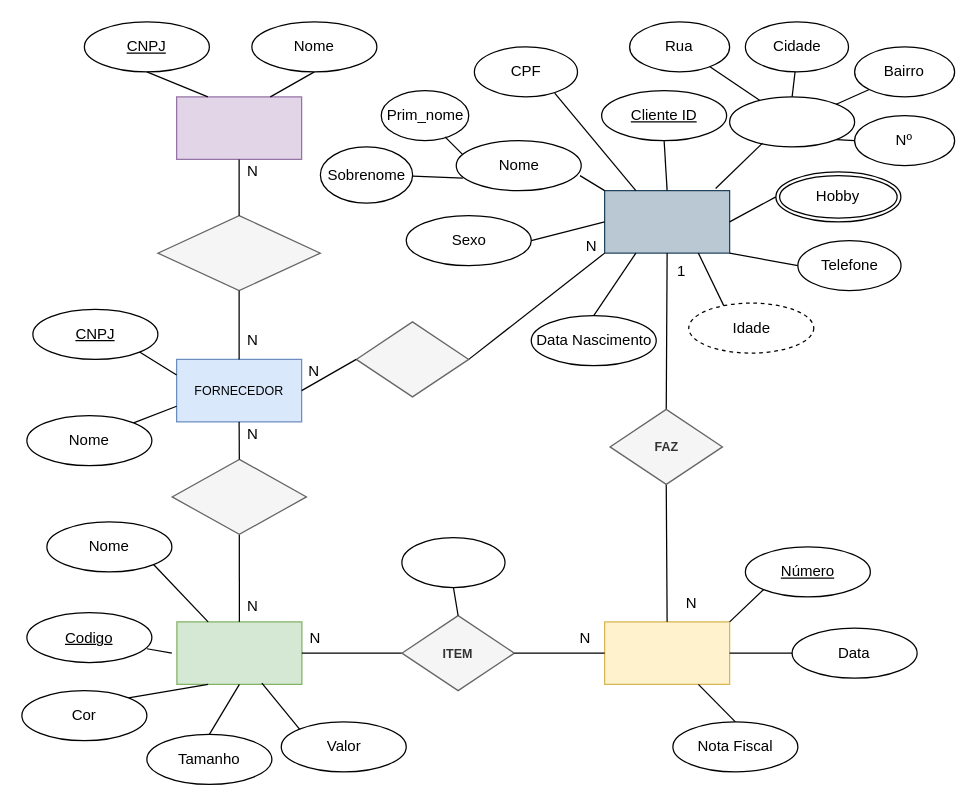
Some shapes in this 978 by 806 pixel diagram are drawn without their labels. Each missing label, with the centre of its shape:
CADASTRO: point 412,359
CLIENTE: point 666,221
CLUBE: point 238,127
Endereço: point 791,121
FORNECE: point 238,496
PEDIDO: point 666,652
POSSUI: point 238,252
PRODUTO: point 239,652
Quantidade: point 453,562
